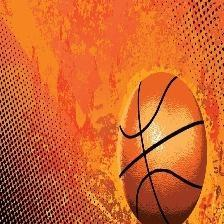Sports-Ball: (114, 68, 209, 224)
